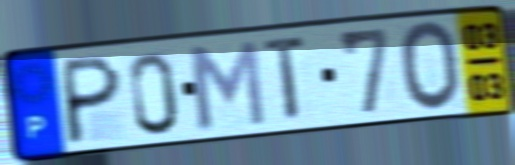0: (126, 48, 182, 137)
7: (335, 26, 394, 118)
M: (183, 37, 269, 133)
O: (396, 18, 464, 115)
P: (62, 51, 124, 147)
T: (262, 32, 310, 126)
